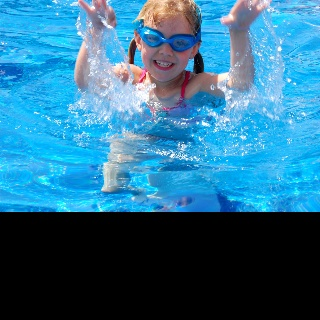without_mask: (127, 0, 203, 82)
